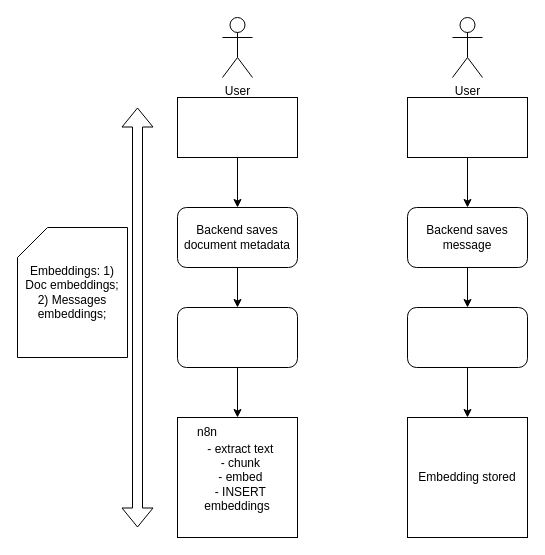
Some shapes in this 545 by 555 pixel diagram are drawn without their labels. Here are the shapes that lost their labels. From the top down, the centre of each, then its label:
At point 237,127: "User uploads document".
At point 467,127: "User sends chat message".
At point 237,337: "Backend triggers n8n webhook".
At point 467,337: "(optional) Backend triggers embedding job (n8n or worker)".
